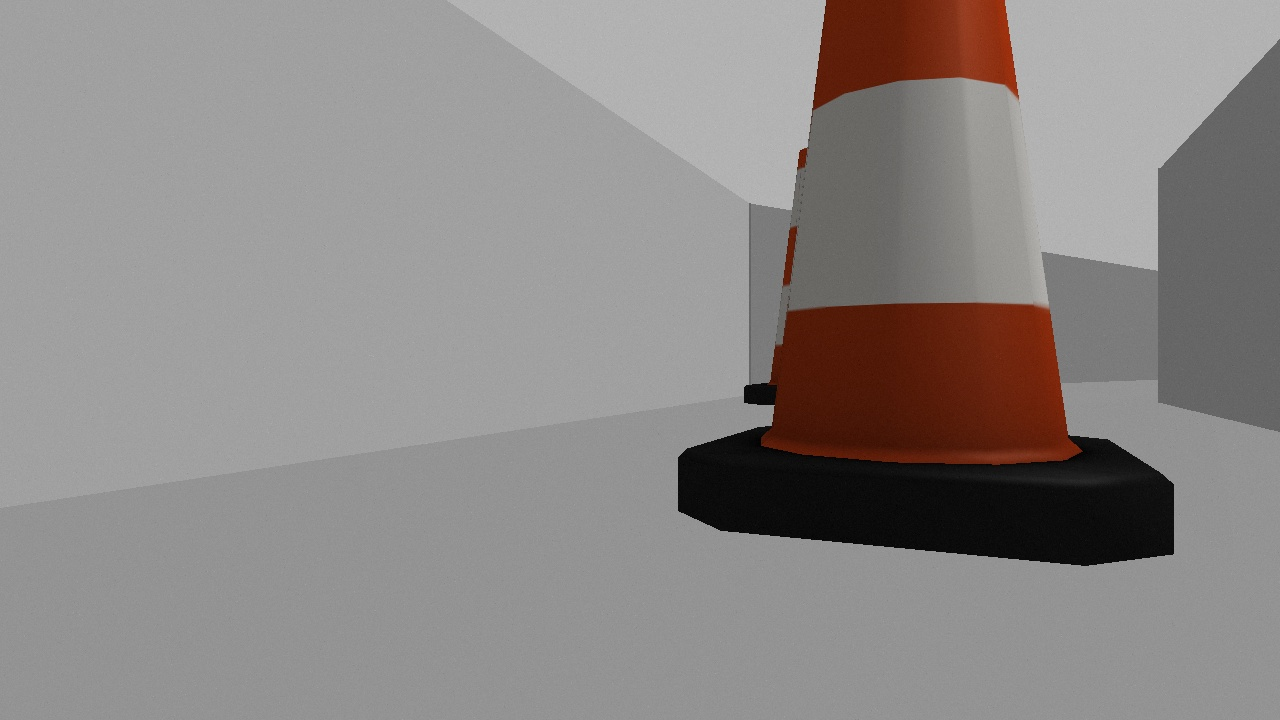barricade: (674, 1, 1177, 567)
